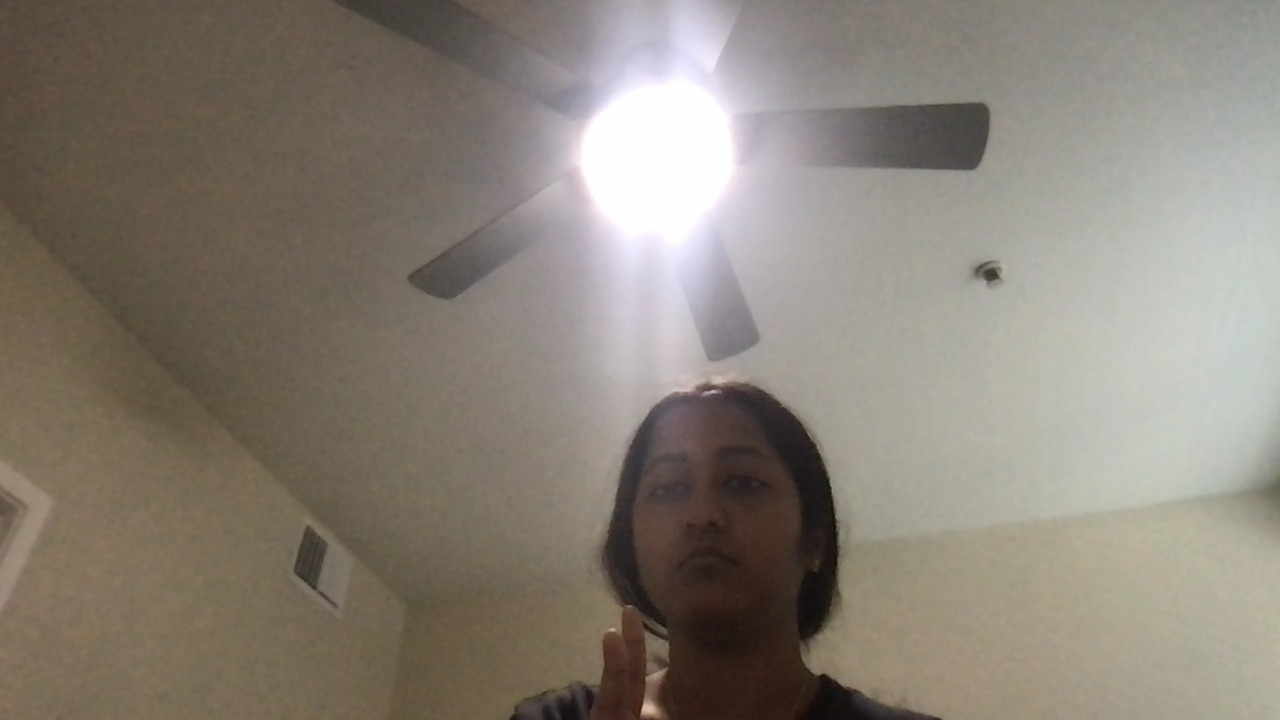k: (576, 608, 676, 720)
